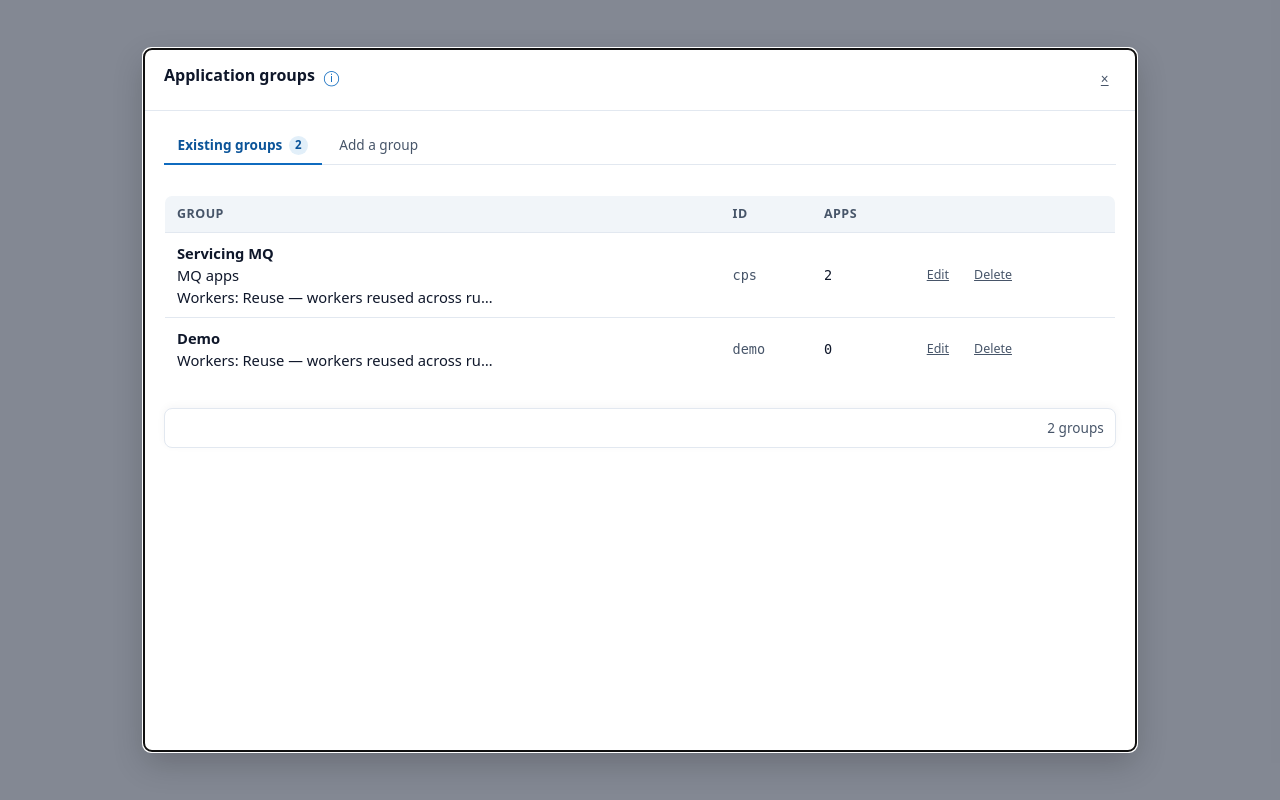
it: ApplicationGroupsDialog › deletes through the confirm dialog and reports a group that still has applications
Expected: the text "Demo" is shown, [177, 328, 220, 348]
Click the button with aria-label "delete group demo" at (993, 349), box [964, 334, 1023, 363]
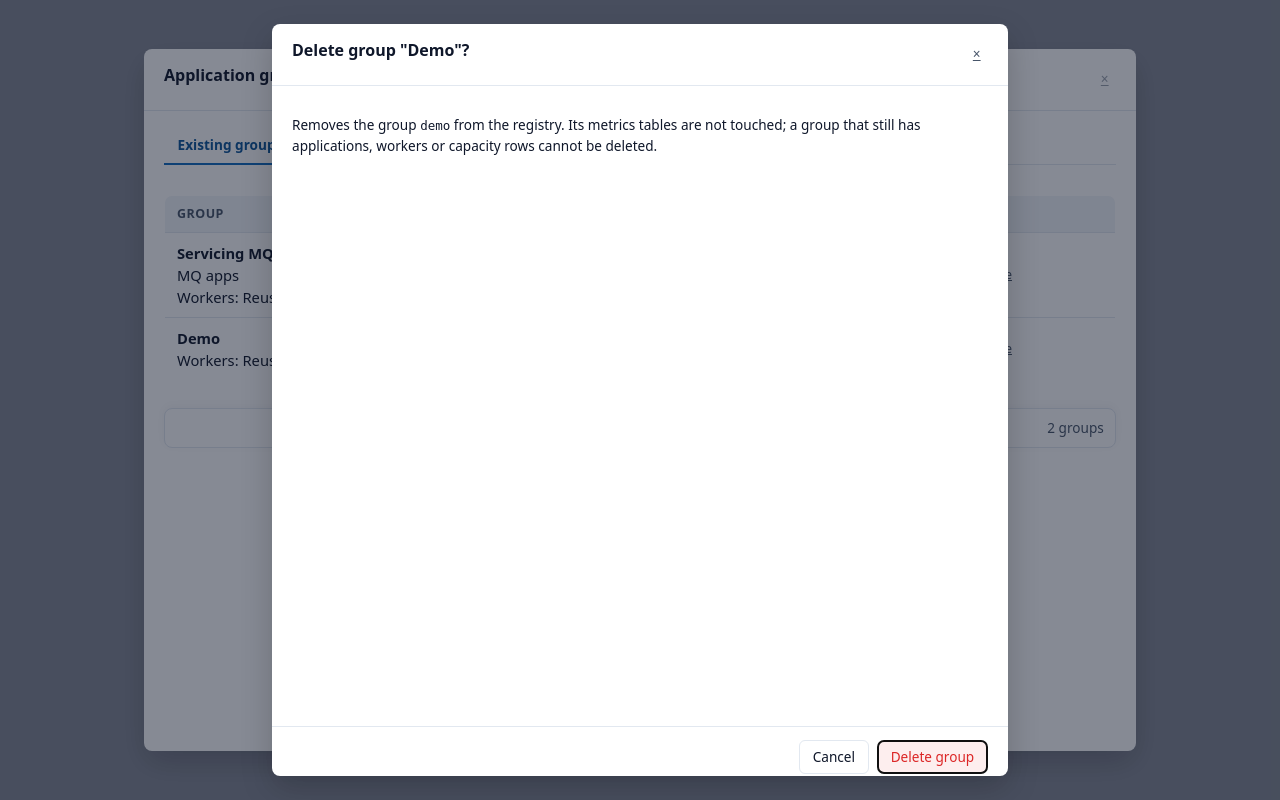
Click the button "Delete group" at (932, 757), box [877, 740, 988, 774]
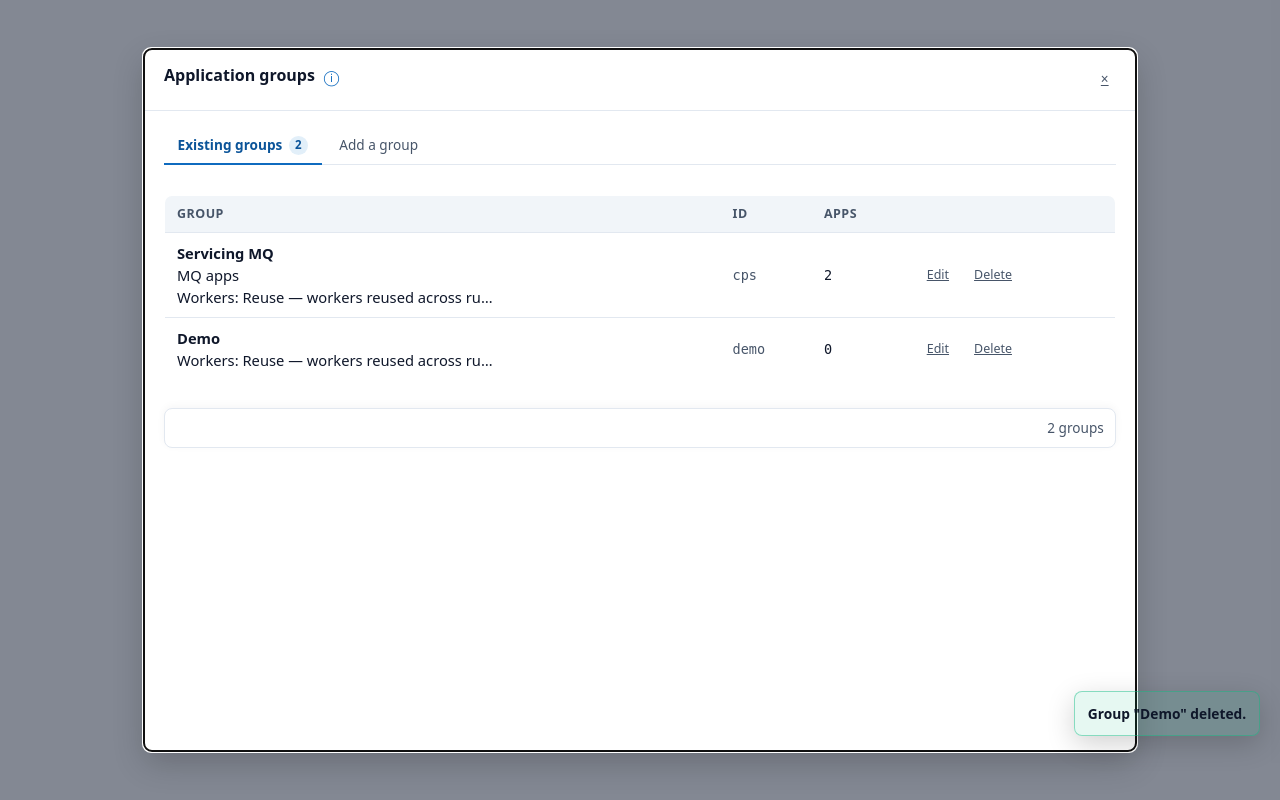
Click the button with aria-label "delete group cps" at (993, 275), box [964, 261, 1023, 289]
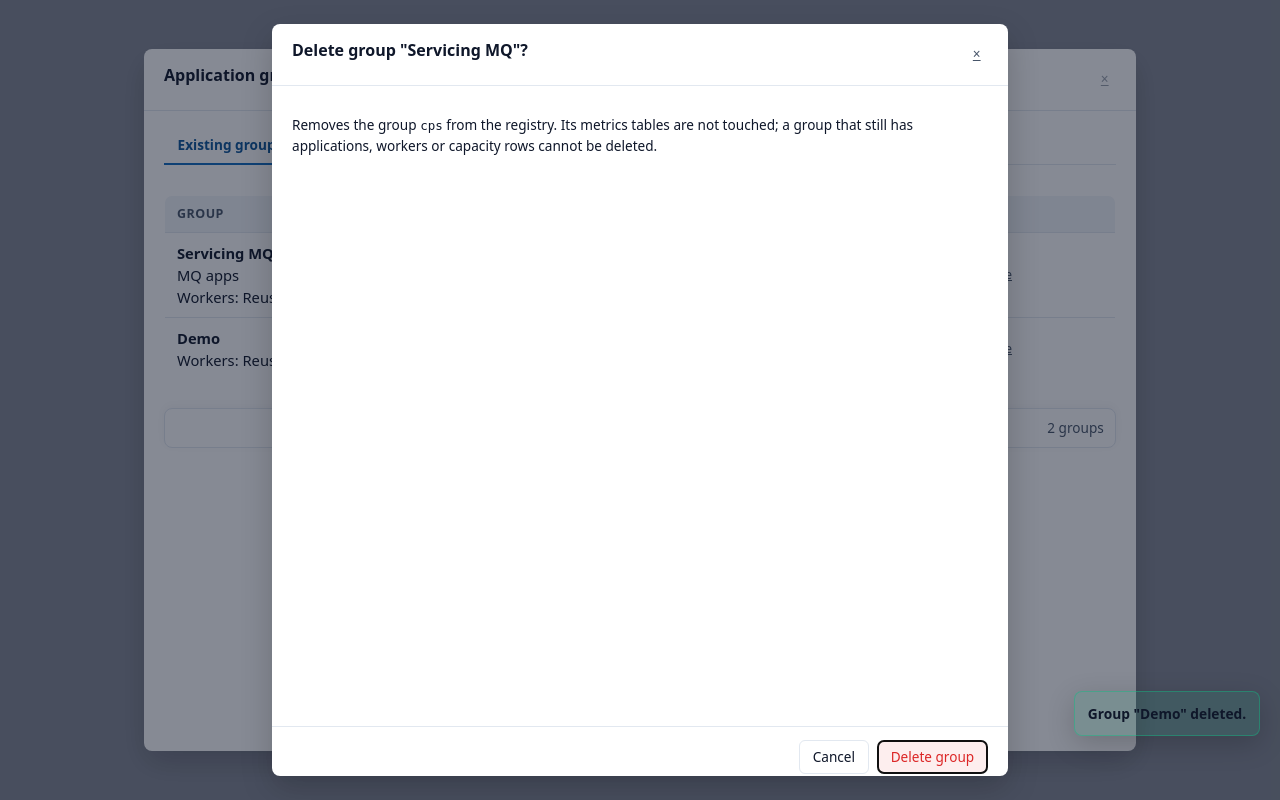
Click the button "Delete group" at (932, 757), box [877, 740, 988, 774]
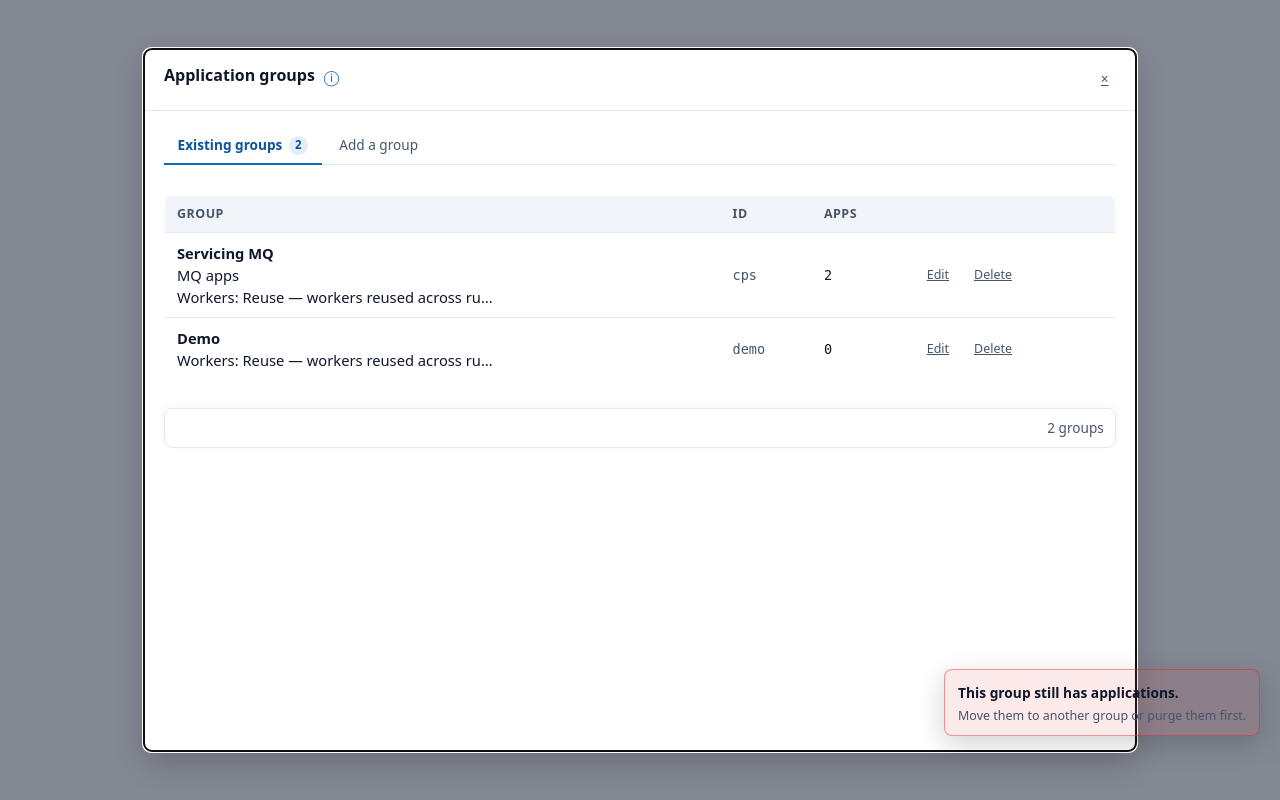
Now the message shows "This group still has applications.", box [958, 682, 1179, 702]
